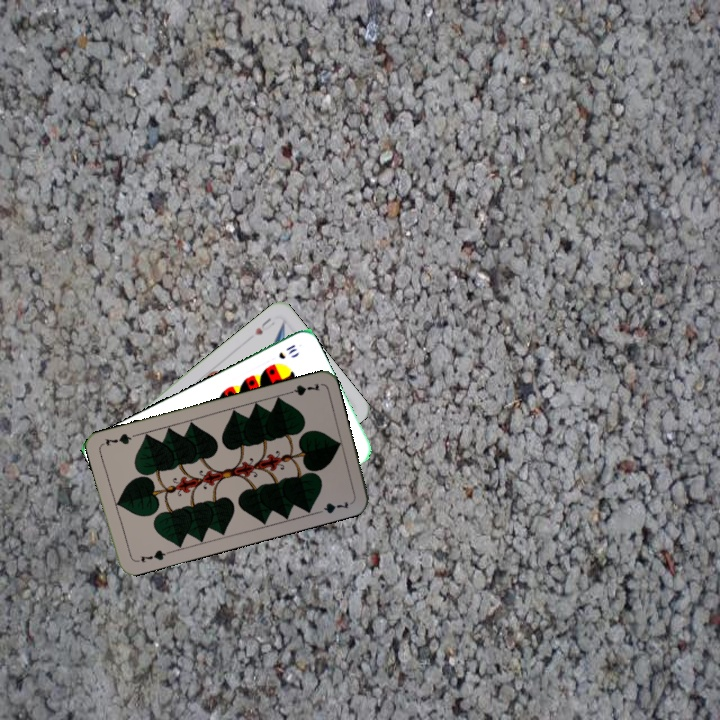G7: (282, 379, 322, 398), (132, 546, 172, 565)
HU: (250, 314, 277, 338)
S10: (274, 341, 300, 362)
